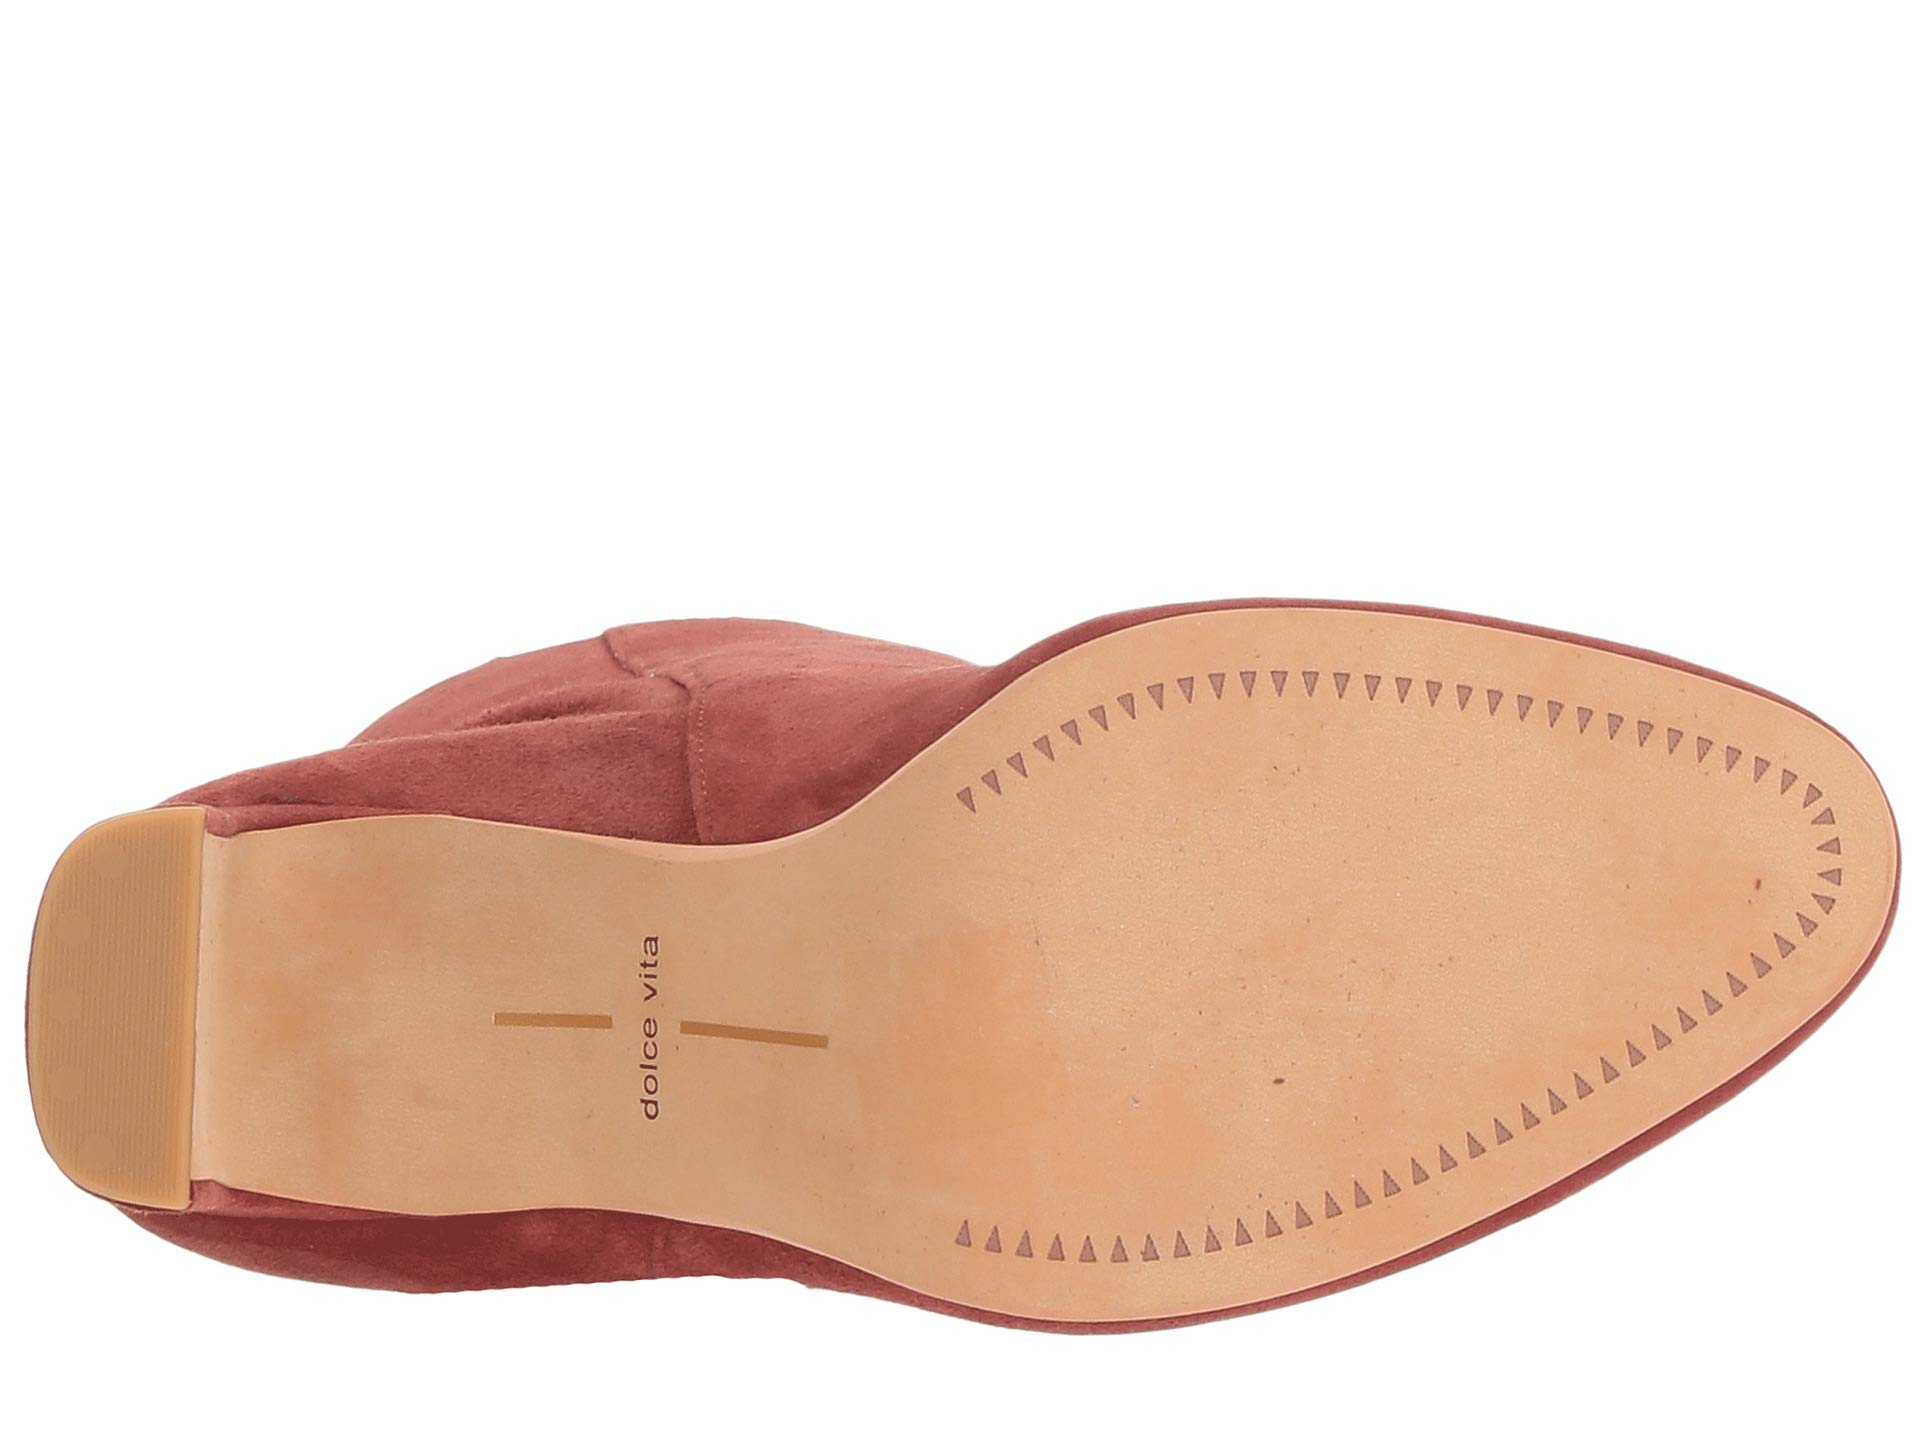circle: (416, 874, 915, 1178)
line: (416, 874, 915, 1178), (1101, 614, 1634, 774)
text: (416, 874, 915, 1178)
triangle: (1101, 614, 1634, 774)
